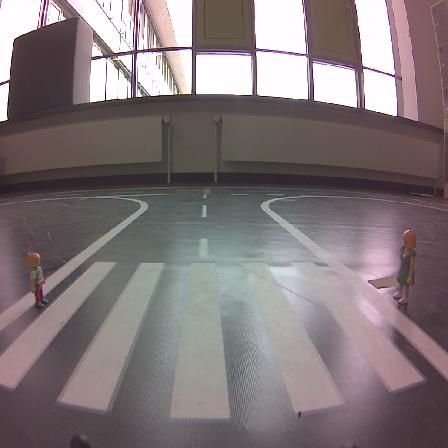CHILD: (26, 253, 47, 307)
PERSON: (393, 229, 416, 303)
